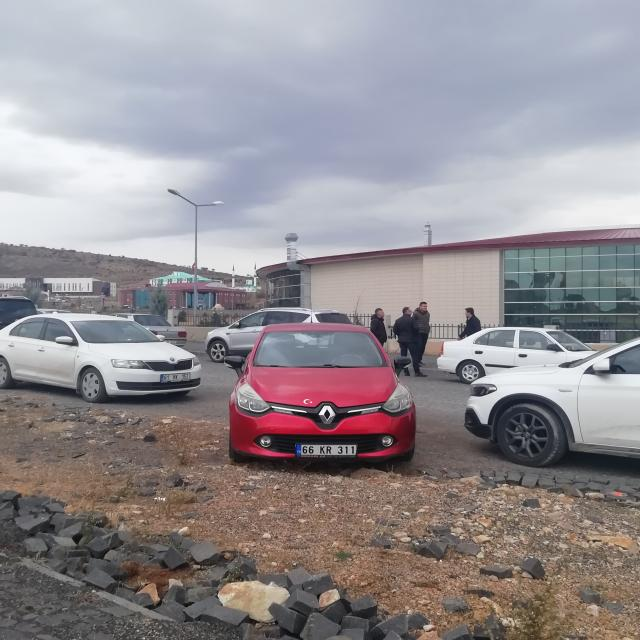license_plate: (295, 444, 356, 456)
